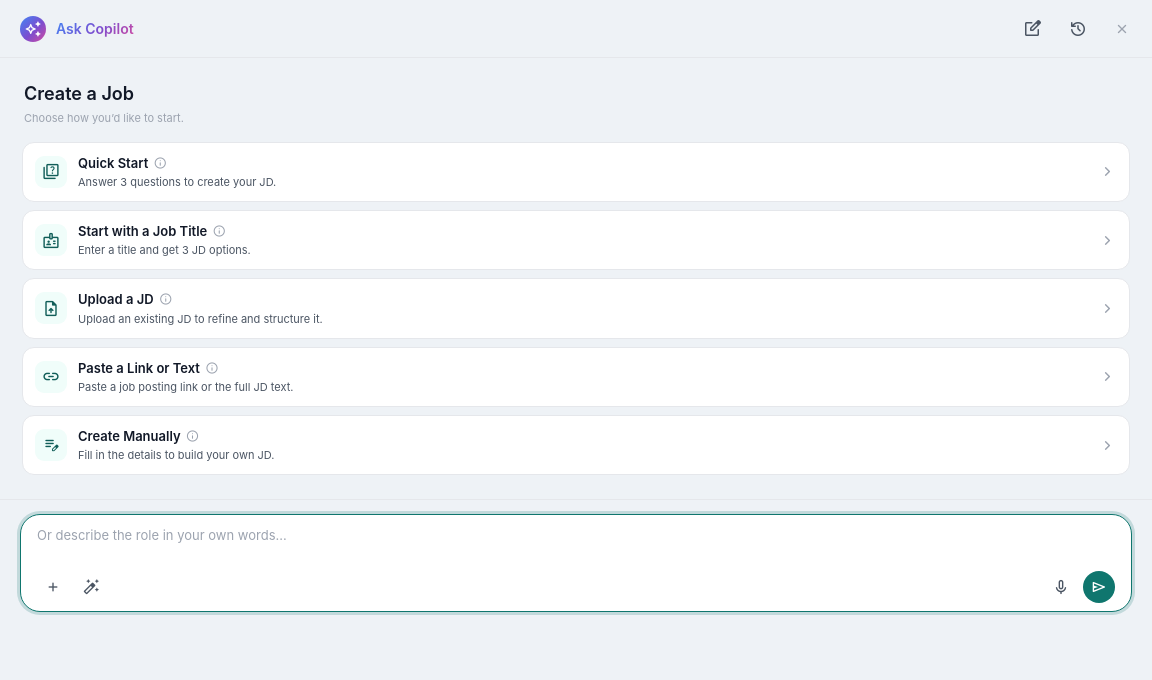
Test: #99: refine only reports real changes › a fractional salary change is still highlighted in the Workspace
Click the text "Start with a Job Title" at x=153, y=231, box [78,222,228,240]
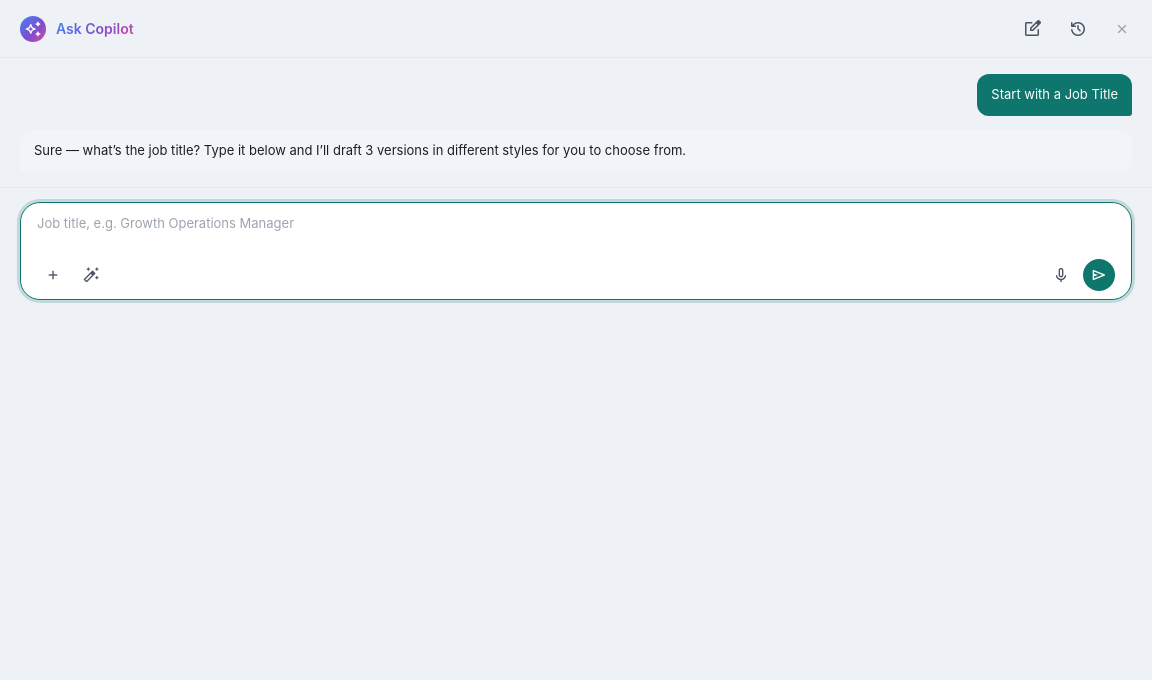
Type "Finance Manager" into the text box with placeholder "Job title, e.g. Growth Operations Manager" at x=576, y=234, box [37,214,1115,253]
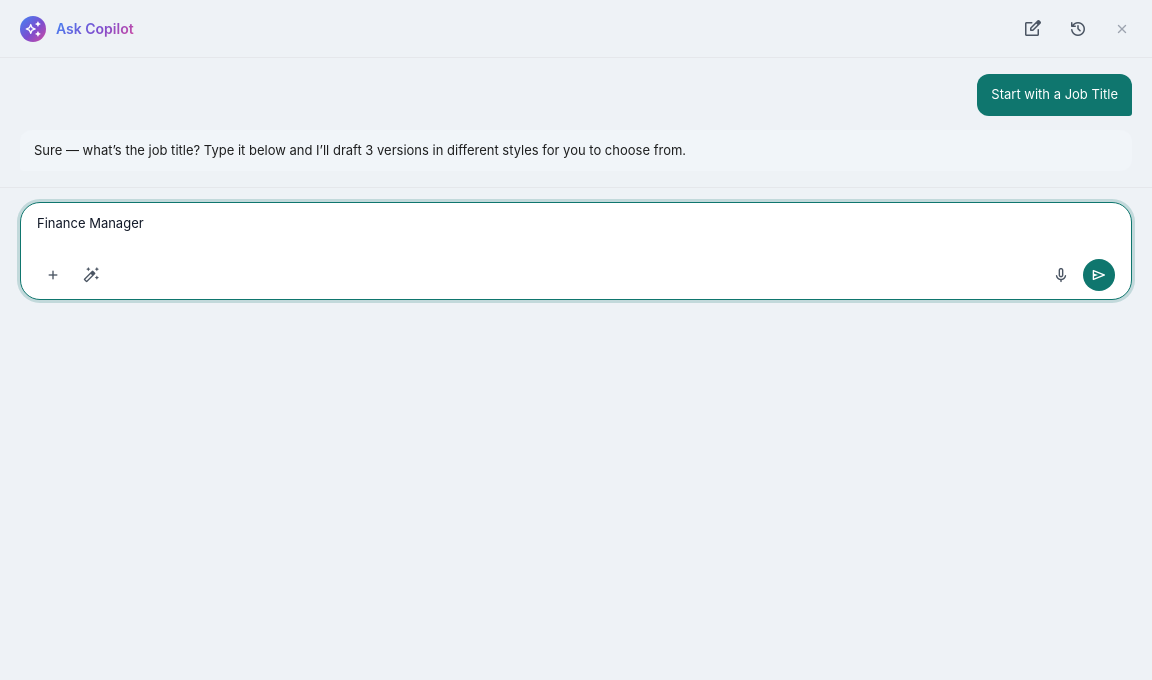
Click the button named "Send" at x=1099, y=275, box [1083,259,1115,291]
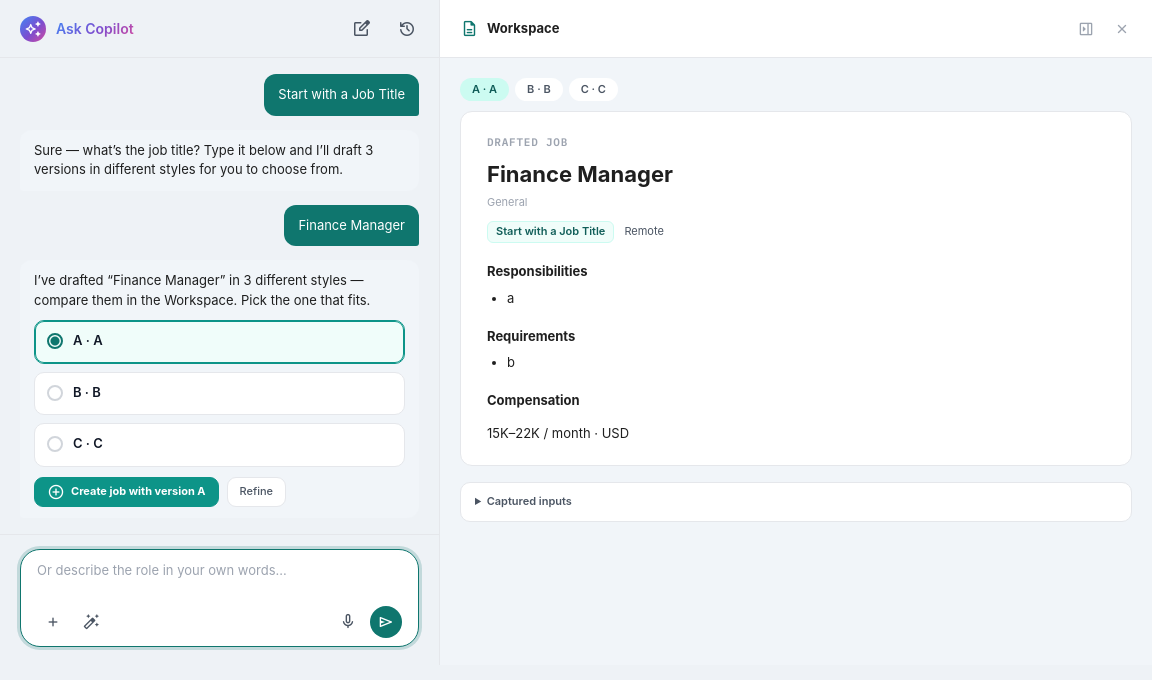
Type "salary from 15000.25" into the text box with placeholder "Or describe the role in your own words…" at x=220, y=580, box [37,560,402,600]
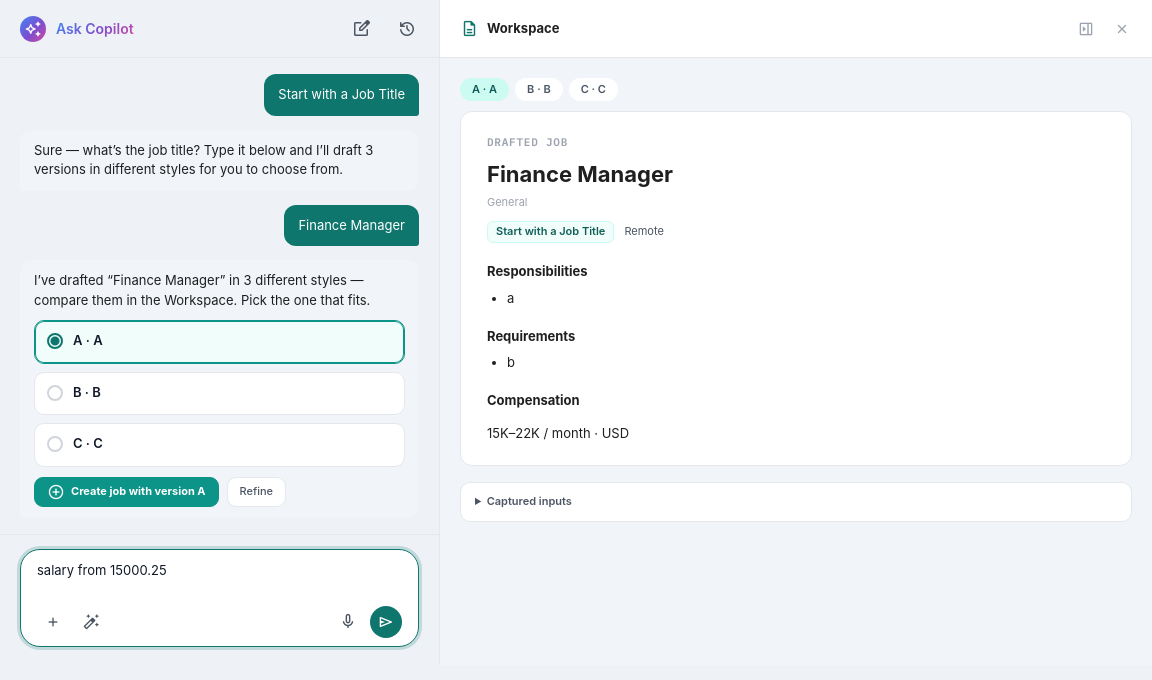
Click the button named "Send" at x=386, y=622, box [370,606,402,638]
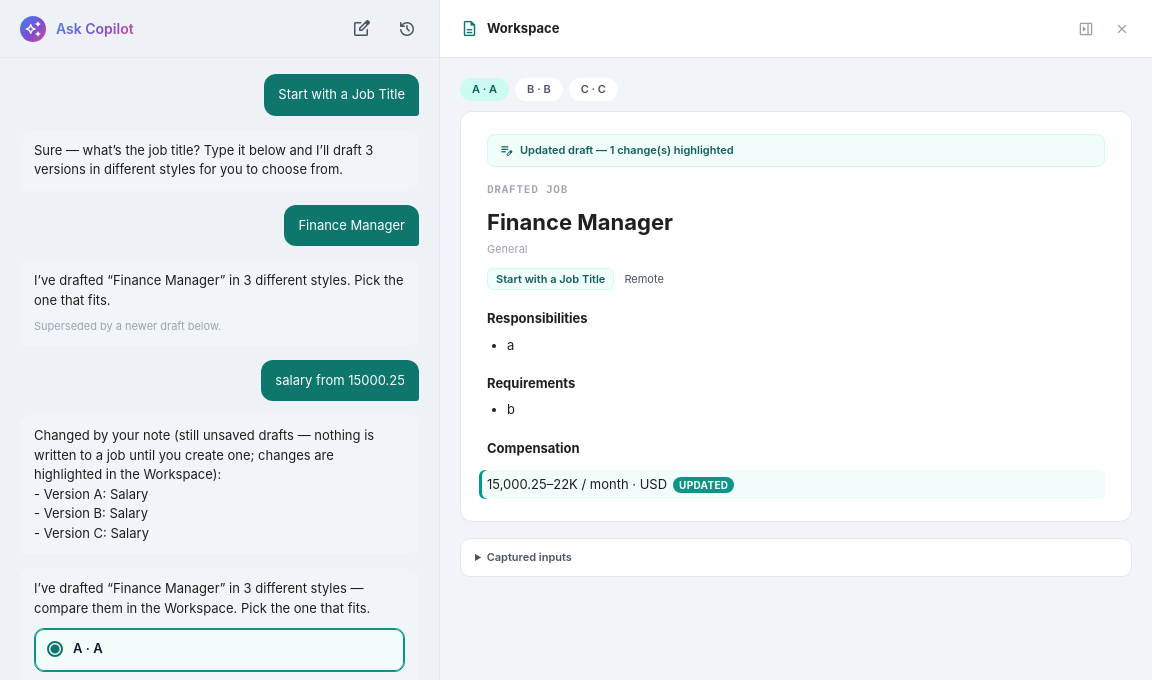
Expected: the text "15,000.25–22K / month · USD Updated" is shown, [479,470,1105,499]
